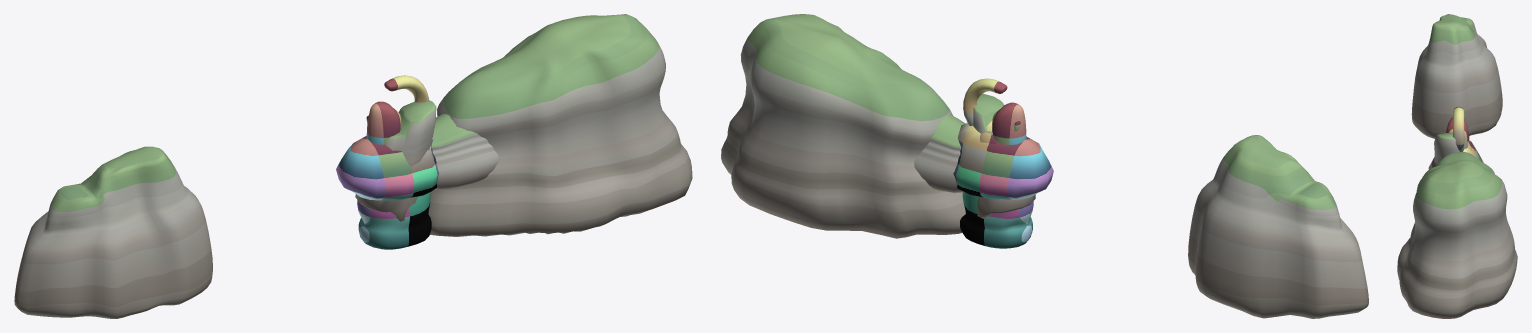
The model's file is RiverRocks.fbx.
3 renders of one model, left to right at view 1: azimuth 30°, elevation 25°; view 2: azimuth 150°, elevation 25°; view 3: azimuth 270°, elevation 25°, orthographic. The views are drawn at different scales.
Visible parts, largest first — view 1: rocks_09, rocks_07, rocks_010, rocks_012, rocks_011, rocks_08, rocks_06; view 2: rocks_09, rocks_07, rocks_010, rocks_012, rocks_011, rocks_08, rocks_06; view 3: rocks_09, rocks_07, rocks_08, rocks_012, rocks_010, rocks_06.
Boxes of the visible parts, left/top/right/bottom form: rocks_09: left=428, top=14, right=692, bottom=236; rocks_07: left=14, top=146, right=212, bottom=318; rocks_010: left=336, top=132, right=438, bottom=200; rocks_012: left=357, top=75, right=431, bottom=249; rocks_011: left=431, top=114, right=499, bottom=189; rocks_08: left=355, top=100, right=436, bottom=221; rocks_06: left=366, top=101, right=401, bottom=144; rocks_09: left=721, top=14, right=965, bottom=238; rocks_07: left=1188, top=135, right=1368, bottom=318; rocks_010: left=953, top=123, right=1053, bottom=199; rocks_012: left=960, top=78, right=1033, bottom=248; rocks_011: left=914, top=115, right=965, bottom=192; rocks_08: left=973, top=93, right=1035, bottom=218; rocks_06: left=992, top=102, right=1026, bottom=144; rocks_09: left=1397, top=152, right=1517, bottom=318; rocks_07: left=1411, top=14, right=1502, bottom=138; rocks_08: left=1434, top=133, right=1468, bottom=163; rocks_012: left=1453, top=106, right=1464, bottom=151; rocks_010: left=1428, top=140, right=1483, bottom=169; rocks_06: left=1446, top=117, right=1469, bottom=143.
Bounding box in the file's own units: 67.03 × 16.99 × 14.67.
Materials: 1 (1 with a texture image).
